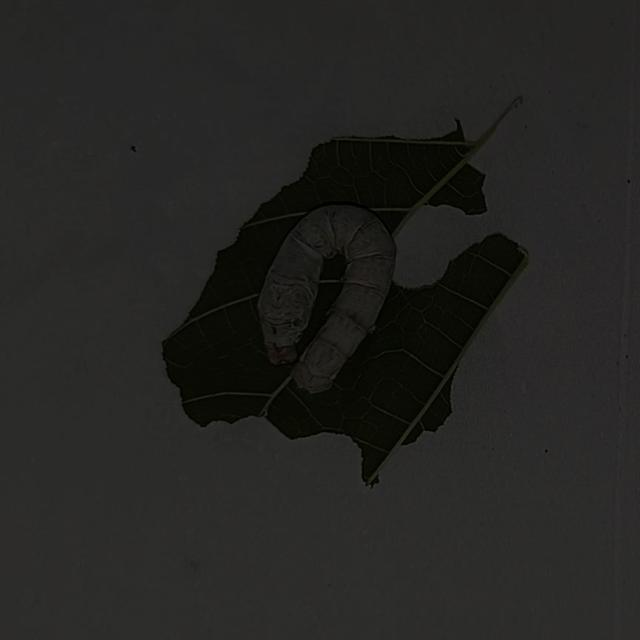Healthy: (216, 187, 422, 407)
